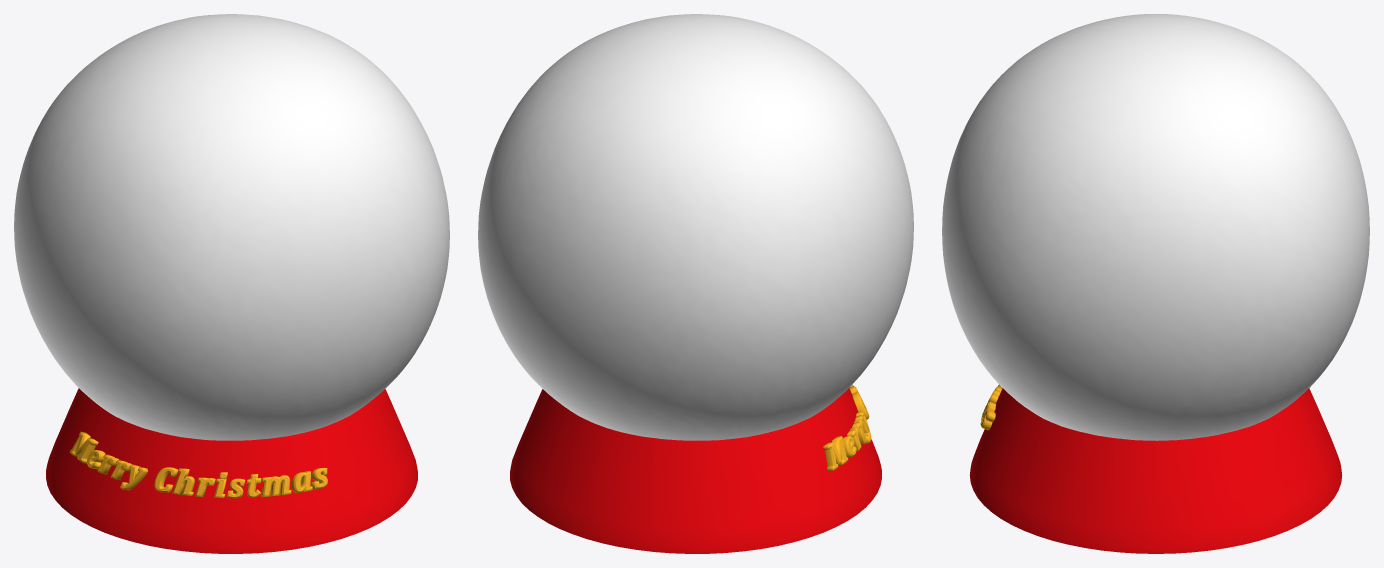
The picture shows the model from 3 angles, left to right: view 1: azimuth 30°, elevation 25°; view 2: azimuth 150°, elevation 25°; view 3: azimuth 270°, elevation 25°; orthographic projection.
Visible parts, largest first — view 1: Cube, Circle, Text; view 2: Cube, Circle, Text; view 3: Cube, Circle.
Boxes of the visible parts, x1,y1,x2,y2 form: Cube: (14,14,449,440); Circle: (46,388,417,553); Text: (70,431,327,498); Cube: (478,14,913,440); Circle: (510,388,881,553); Text: (823,384,871,471); Cube: (942,14,1369,440); Circle: (969,388,1342,553).
Bounding box in the file's own units: 327 × 372 × 327.
Materials: 5 (5 with a texture image).
